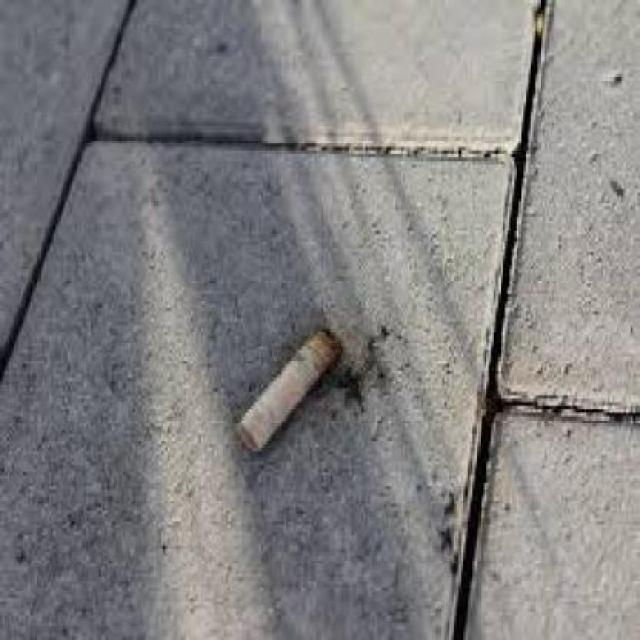cigarette: (236, 308, 350, 450)
